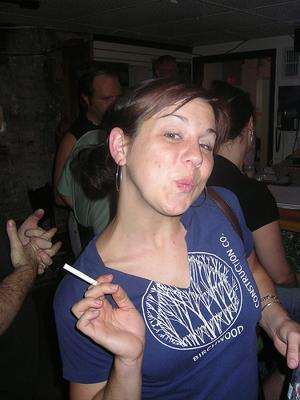person: (50, 72, 300, 400)
